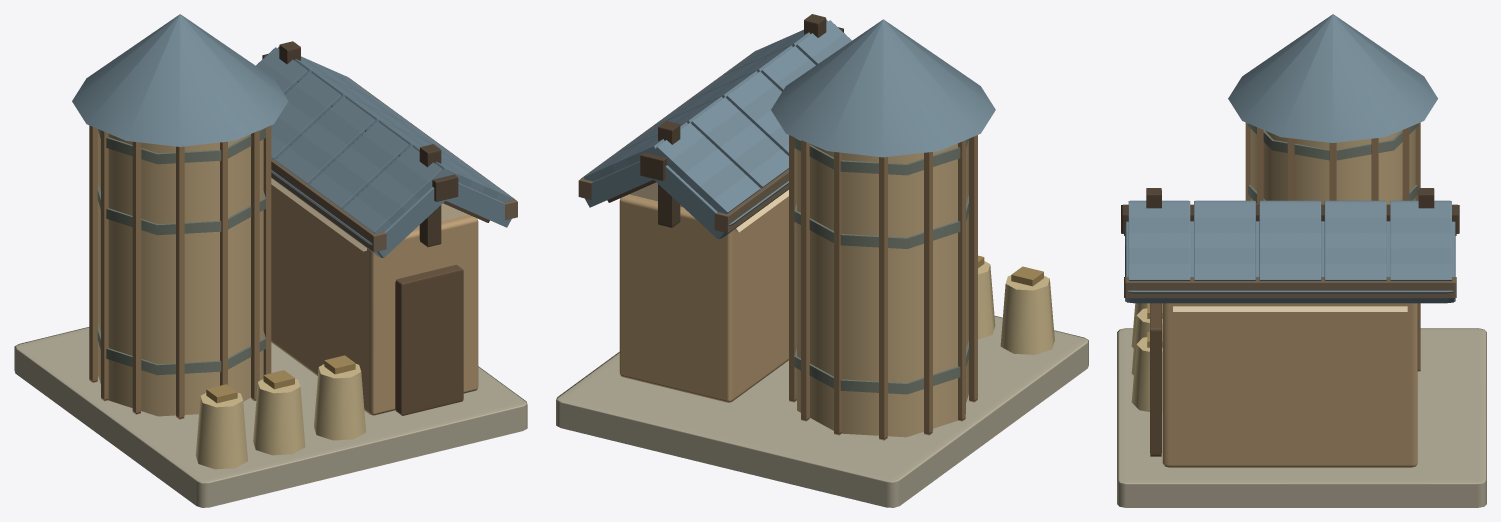
The model's file is granary-2.glb.
3 renders of one model, left to right at view 1: azimuth 30°, elevation 25°; view 2: azimuth 150°, elevation 25°; view 3: azimuth 270°, elevation 25°, orthographic. The views are drawn at different scales.
Parts seen in each view (by area): view 1: granary-2-0; view 2: granary-2-0; view 3: granary-2-0.
Part boxes in pixels (x1,y1,x2,y2): granary-2-0: [14, 14, 527, 507]; granary-2-0: [556, 14, 1088, 507]; granary-2-0: [1117, 14, 1486, 507].
Size of the model in its own units: 1.92 by 2.16 by 1.9.
